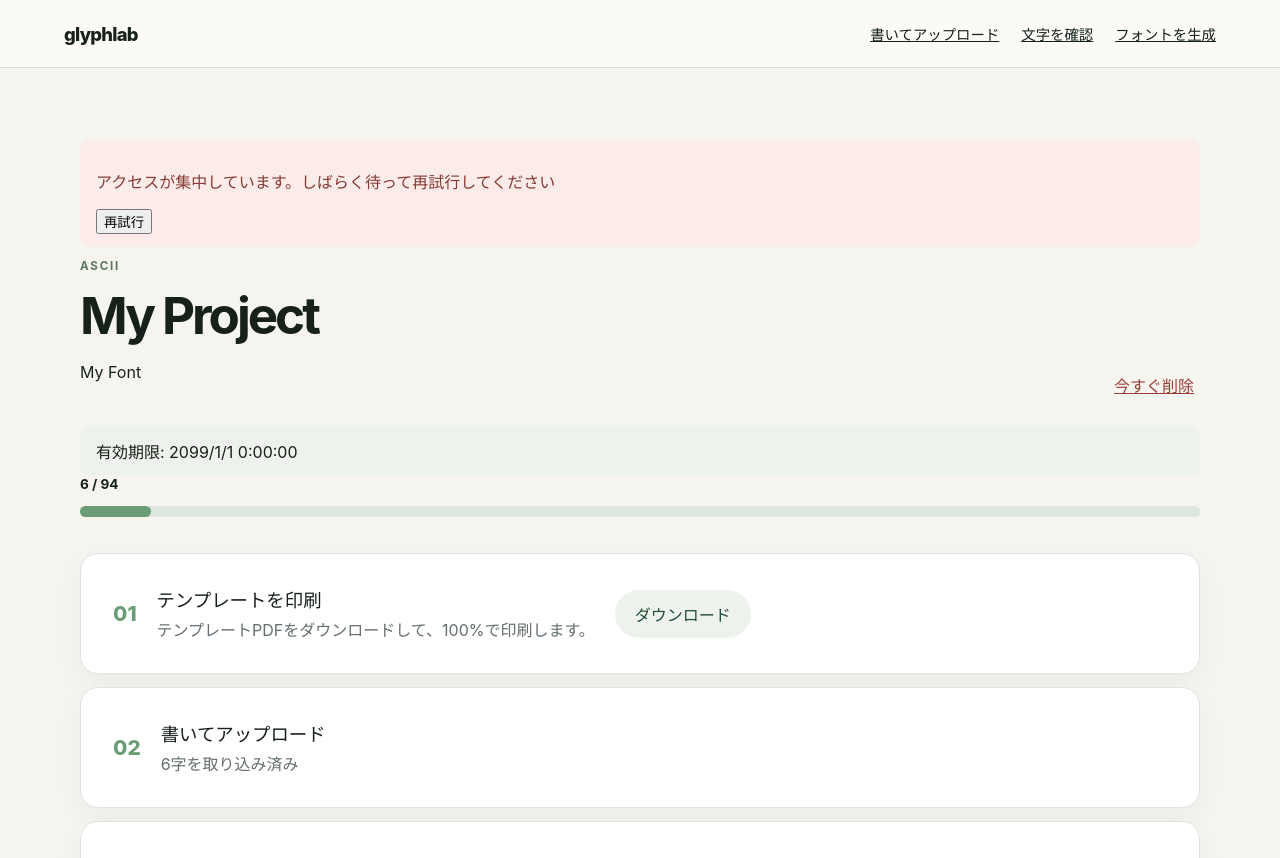
Scenario: keeps the active project view mounted on background failure (, 429)
Expected: the text "アクセスが集中しています。しばらく待って再試行してください" is shown, [96, 172, 555, 192]
Expected: the button "今すぐ削除" is shown, [1108, 372, 1200, 398]
Step 1. Click the button "再試行" → (124, 222), box [96, 209, 152, 234]
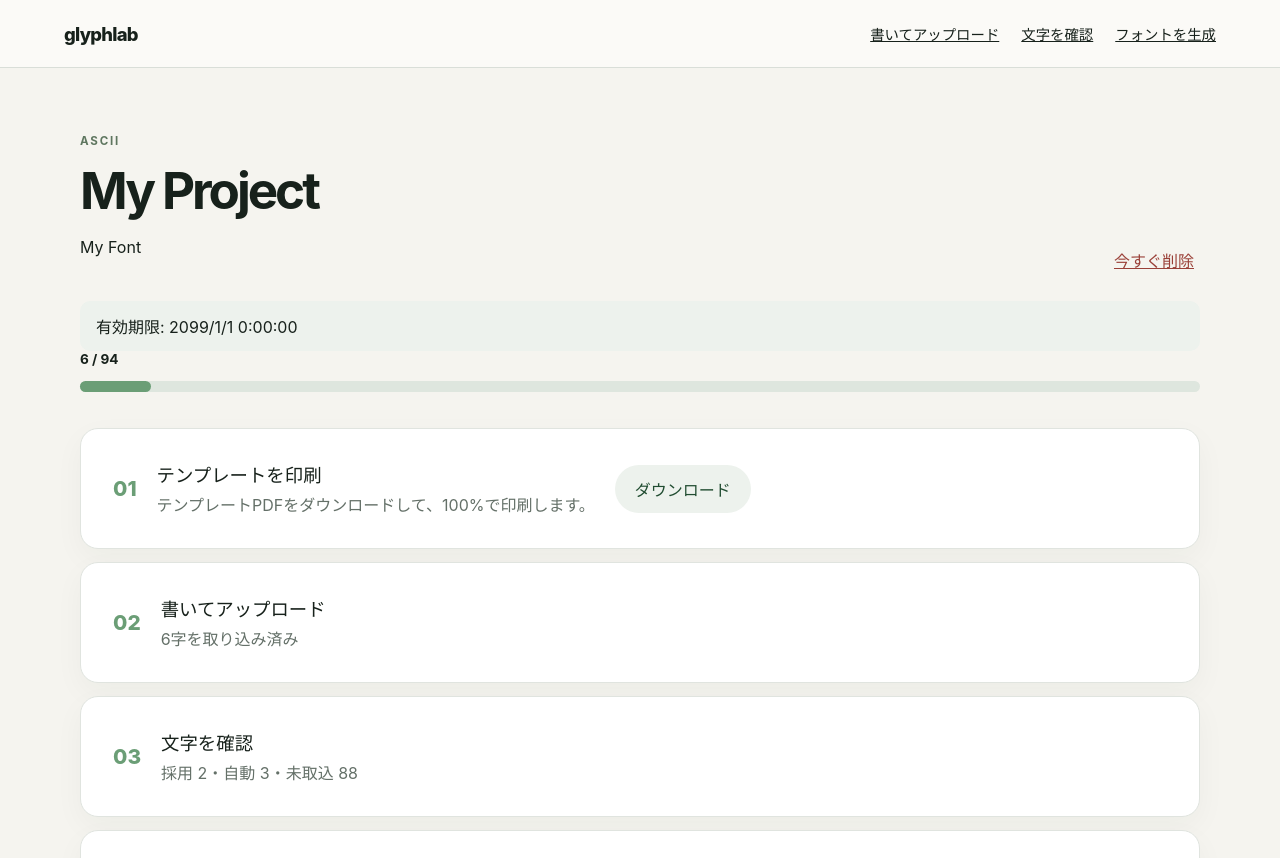
Expected: the button "今すぐ削除" is shown, [1108, 247, 1200, 273]
Expected: the text "アクセスが集中しています。しばらく待って再試行してください" is gone
